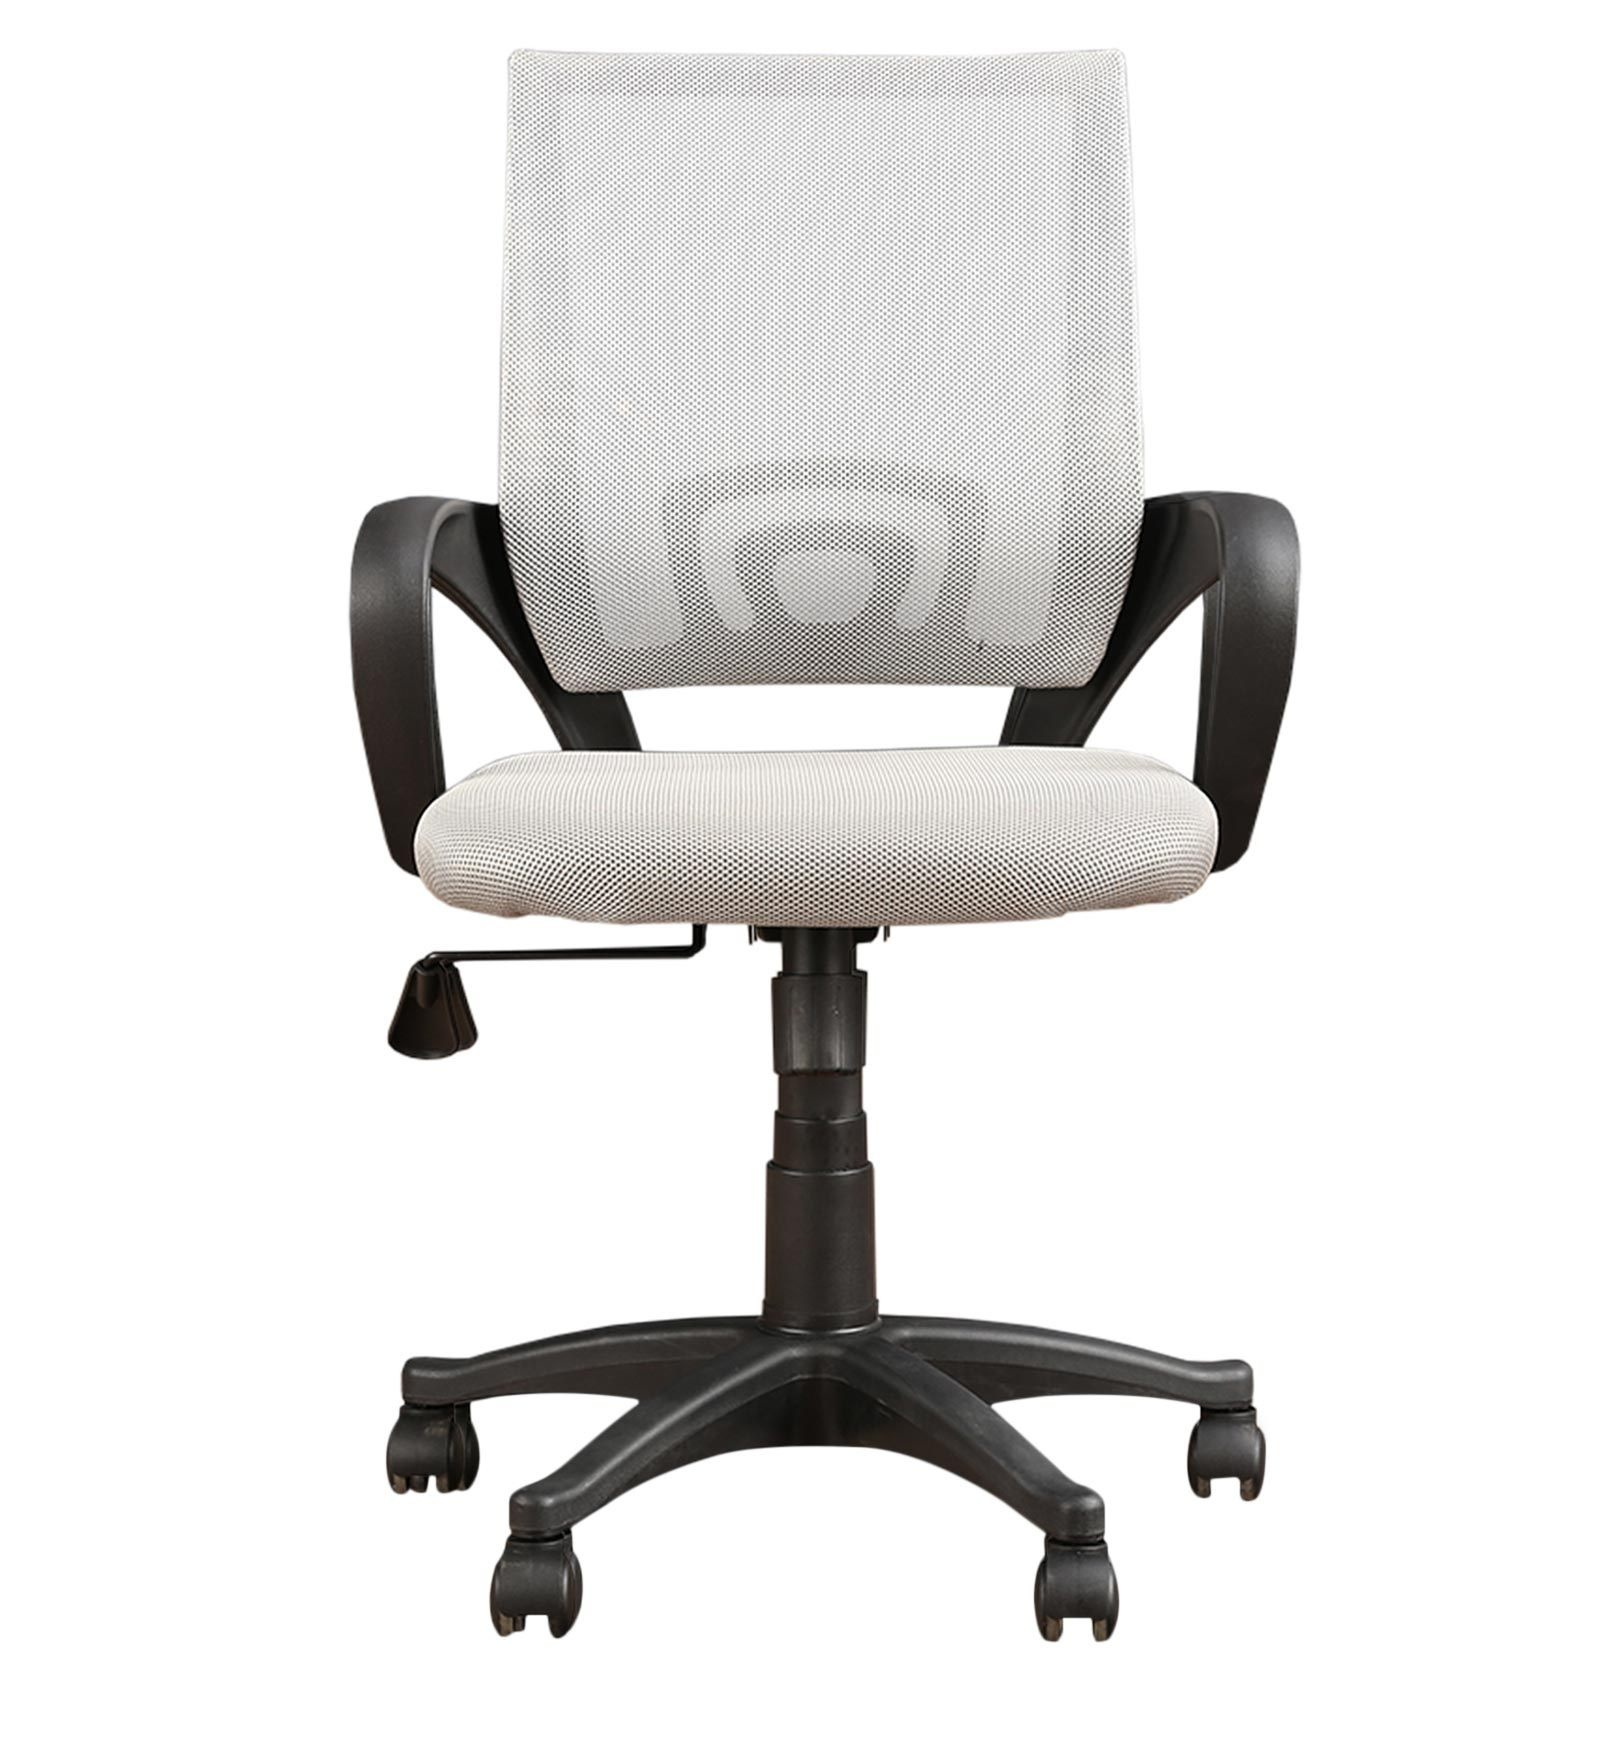Bolton Low Back Ergonomic Chair in Grey Colour by HomeTown: (330, 17, 1349, 1699)
